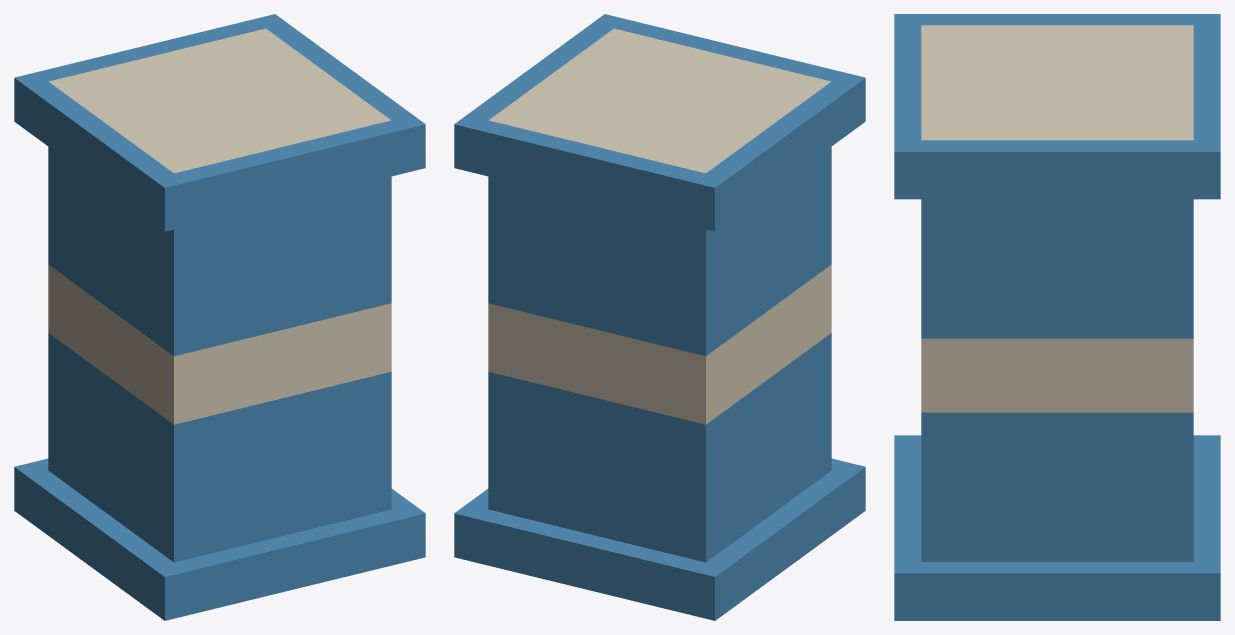
File: F_Stage_03.fbx
3 views of the same model, side by side, from view 1: azimuth 30°, elevation 25°; view 2: azimuth 150°, elevation 25°; view 3: azimuth 270°, elevation 25° (orthographic). The views are drawn at different scales.
Parts seen in each view (by area): view 1: F_Stage_03; view 2: F_Stage_03; view 3: F_Stage_03.
Boxes of the visible parts, x1,y1,x2,y2 form: F_Stage_03: [14, 14, 425, 620]; F_Stage_03: [454, 14, 865, 620]; F_Stage_03: [894, 14, 1220, 620].
Size of the model in its own units: 120 by 190 by 120.
